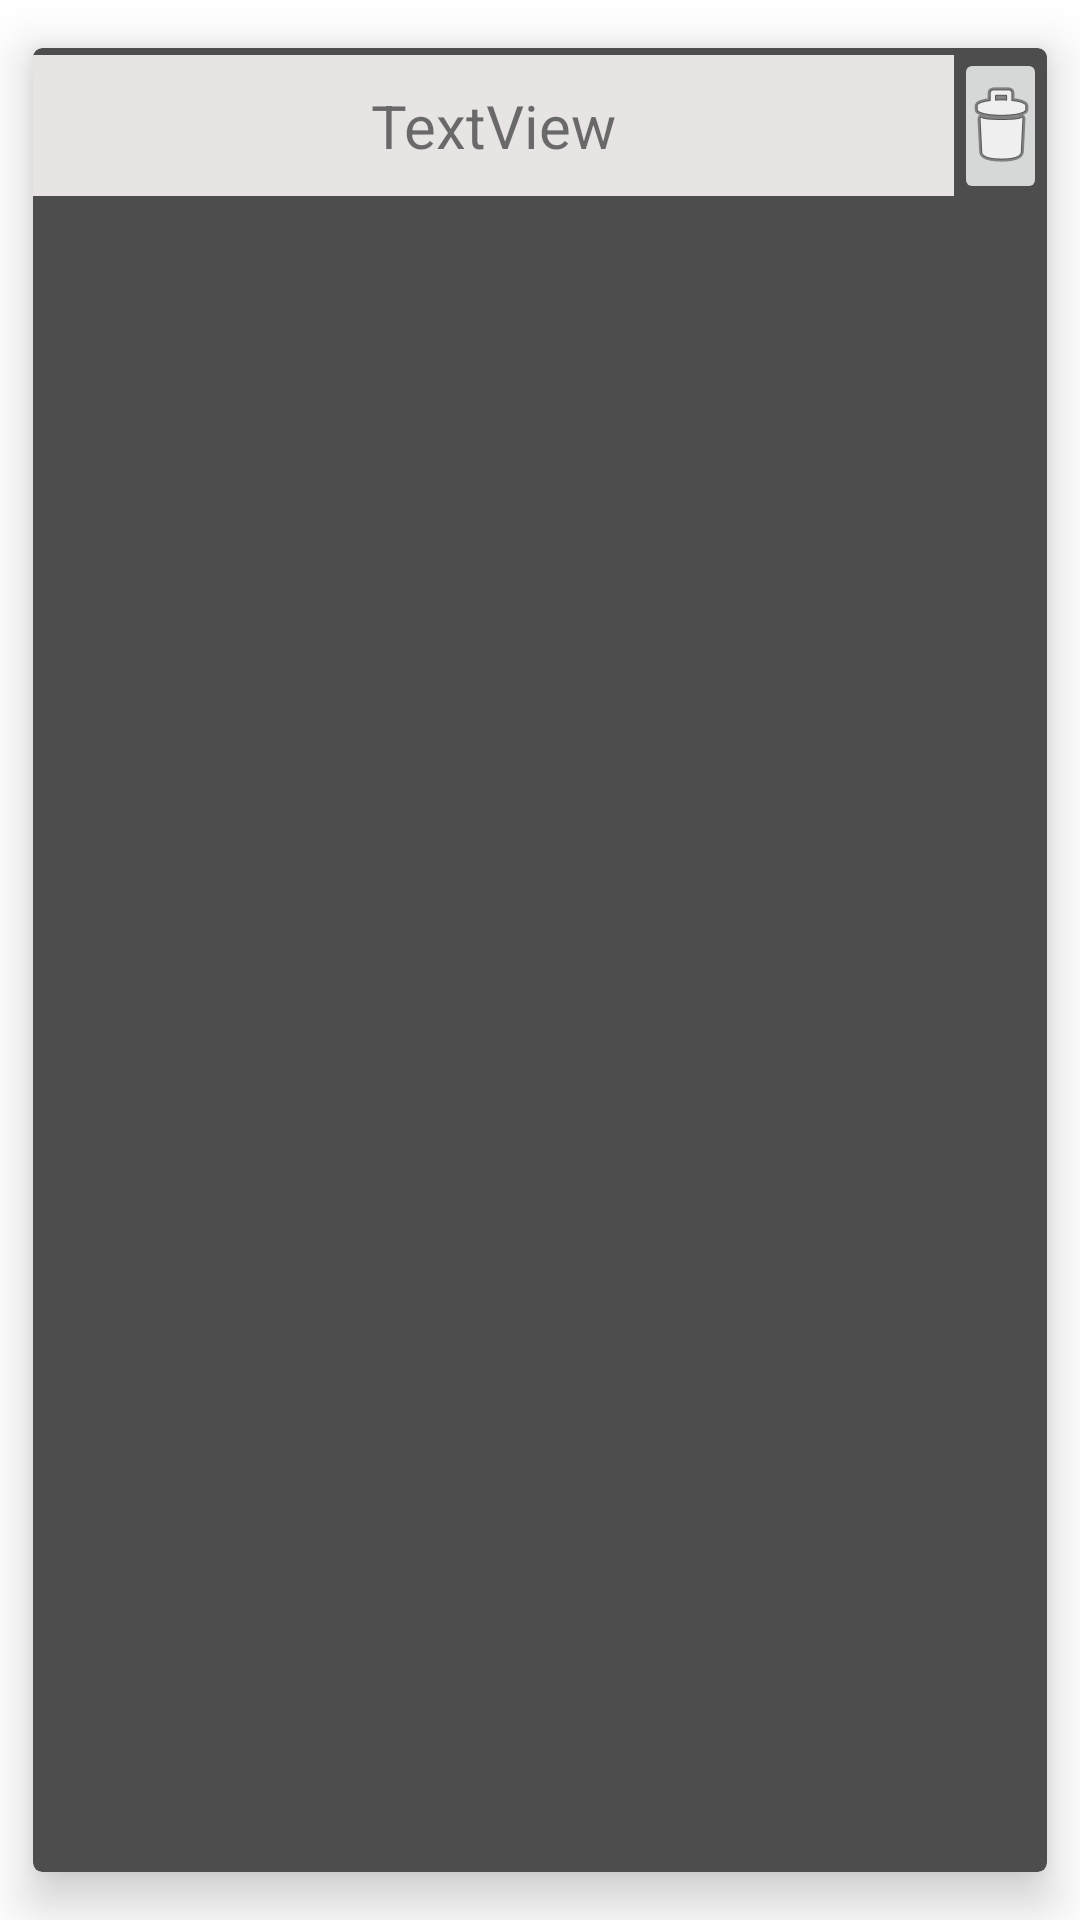

Point at icon controls on the screen. Image size 1080×1920, points as [x,y].
delete: [1000,126]
